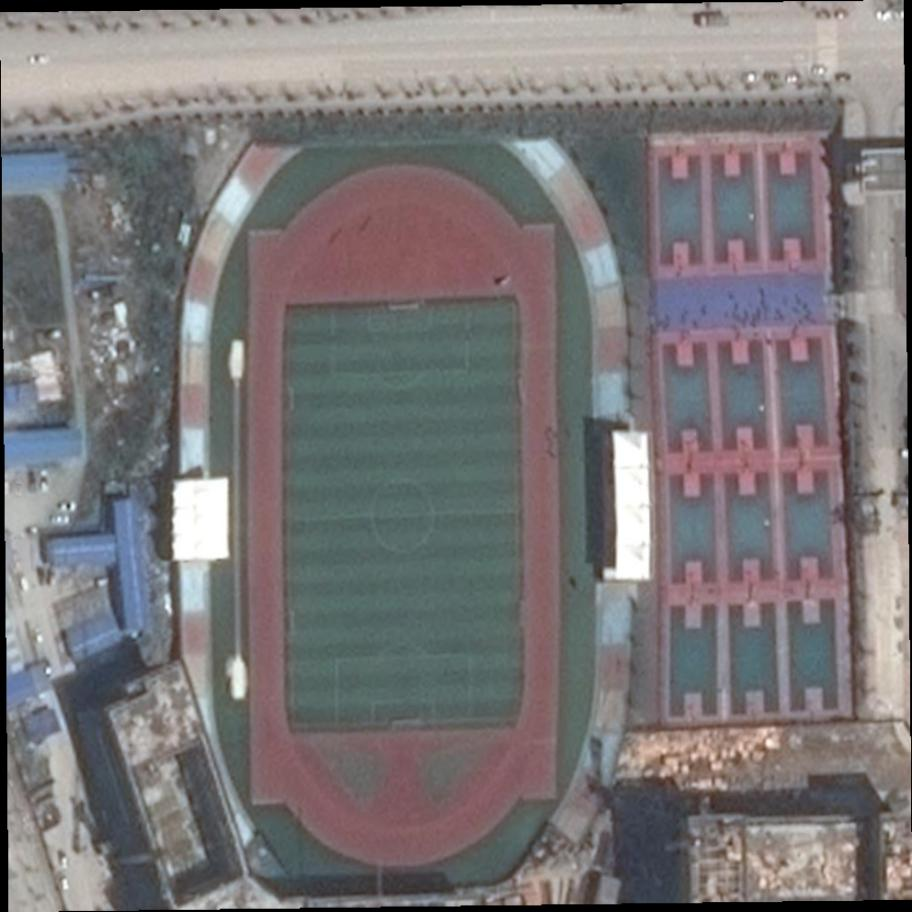small-vehicle: (697, 9, 727, 29), (25, 470, 43, 495), (872, 8, 896, 23), (783, 70, 803, 88), (833, 70, 854, 87), (27, 52, 49, 68), (741, 70, 762, 86), (39, 468, 51, 495), (58, 498, 78, 514), (812, 9, 834, 22), (49, 514, 69, 528), (807, 63, 827, 77)
